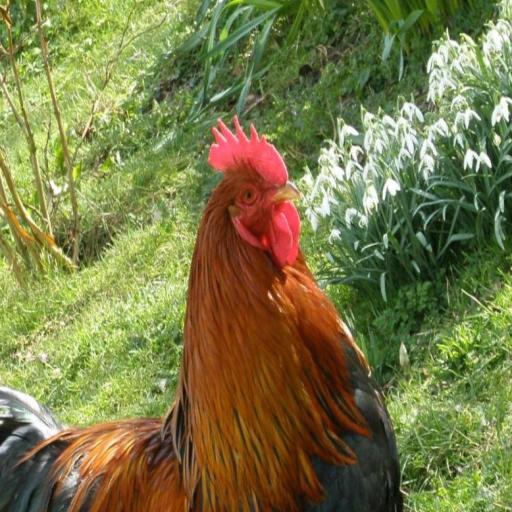healthy: (194, 114, 316, 274)
